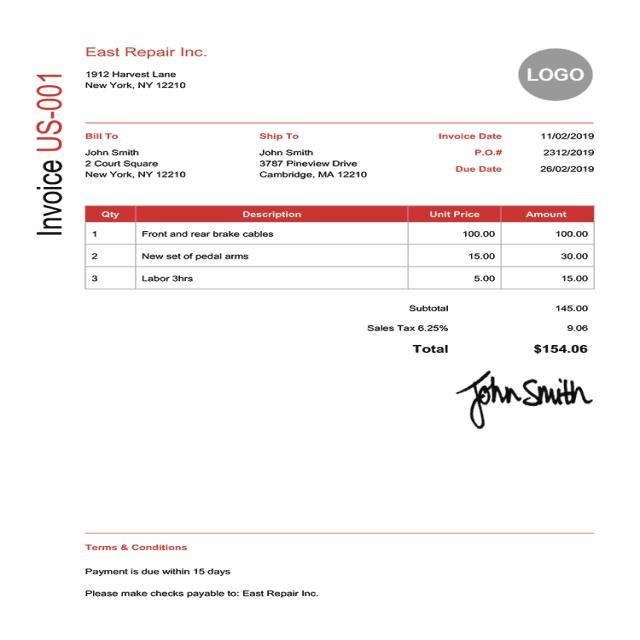ROI: (83, 204, 592, 288), (78, 537, 330, 606), (362, 298, 598, 355), (451, 364, 598, 433), (433, 128, 600, 179), (253, 126, 370, 184), (80, 43, 209, 93), (79, 127, 193, 182), (33, 70, 67, 237), (521, 65, 593, 85)
